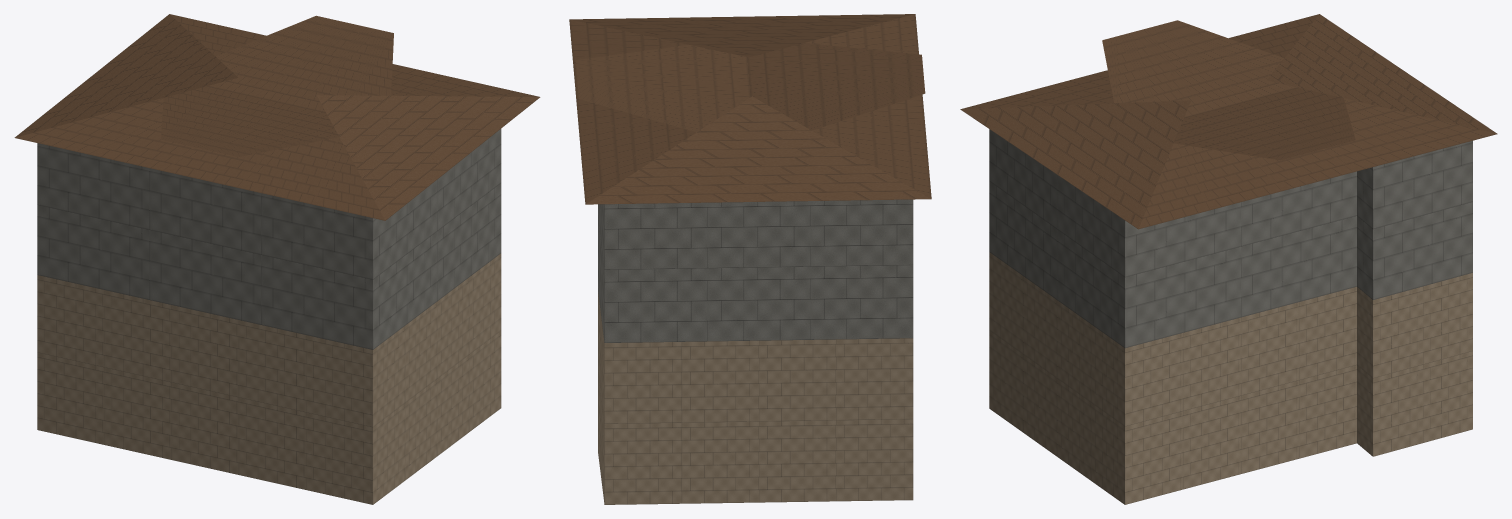
Rendered from bld_c36_46_203.gltf.
The picture shows the model from 3 angles, left to right: view 1: azimuth 30°, elevation 25°; view 2: azimuth 150°, elevation 25°; view 3: azimuth 270°, elevation 25°; orthographic projection. The views are drawn at different scales.
Visible parts, largest first — view 1: bld_c36_46_203; view 2: bld_c36_46_203; view 3: bld_c36_46_203.
Part boxes in pixels (<box>): bld_c36_46_203: <box>14,14,540,504</box>; bld_c36_46_203: <box>569,14,931,504</box>; bld_c36_46_203: <box>960,14,1497,504</box>.
Bounding box in the file's own units: 14.71 × 10.5 × 15.52.
3 materials, 3 textured.
